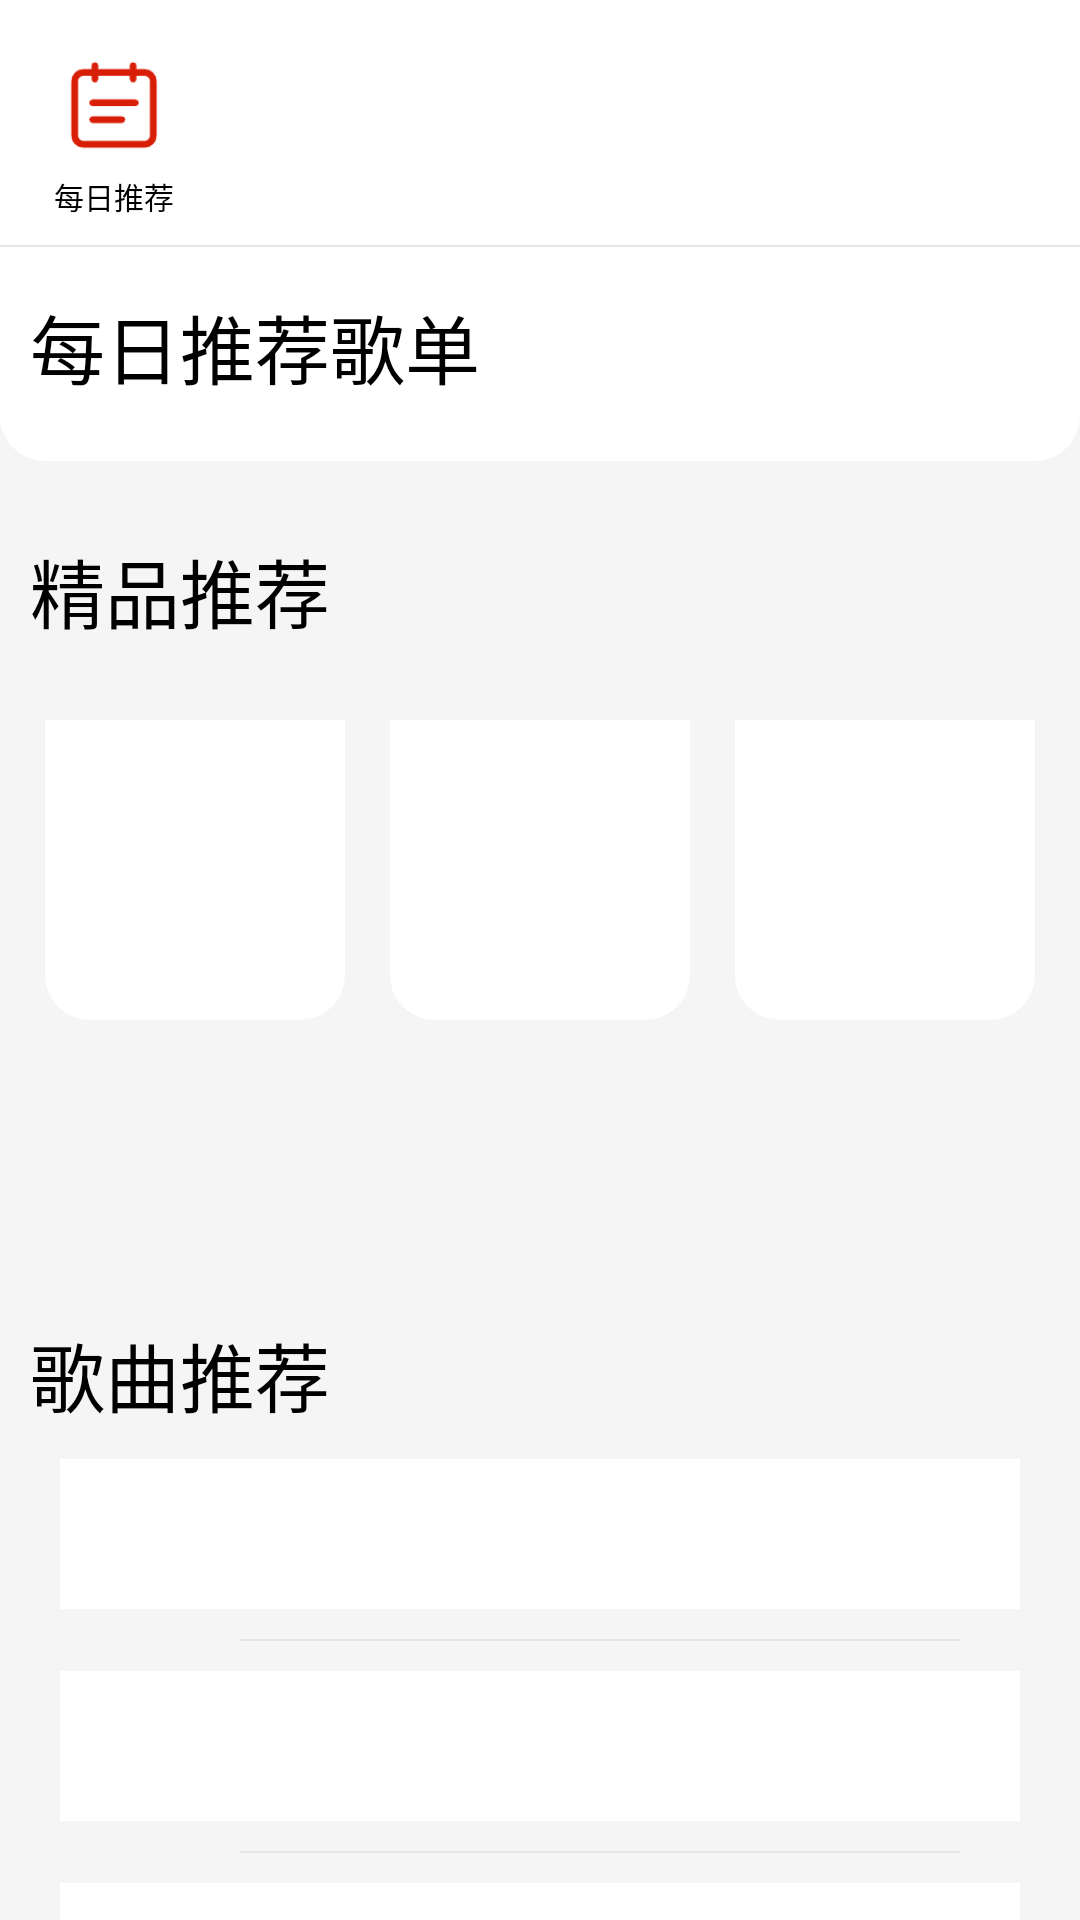

Icons on this 1080 x 1920 Android screen, each with its box as box=[x1, y1, x2, y2]:
daymusic: box=[70, 62, 158, 149]
